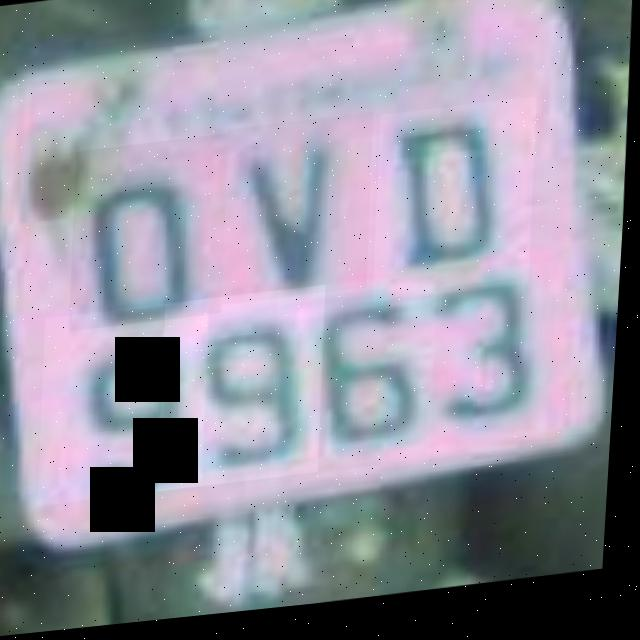3: (392, 273, 560, 473)
6: (272, 280, 444, 488)
9: (40, 303, 216, 507), (160, 291, 332, 495)
O: (374, 107, 541, 311), (69, 137, 233, 333)
V: (222, 120, 378, 310)
